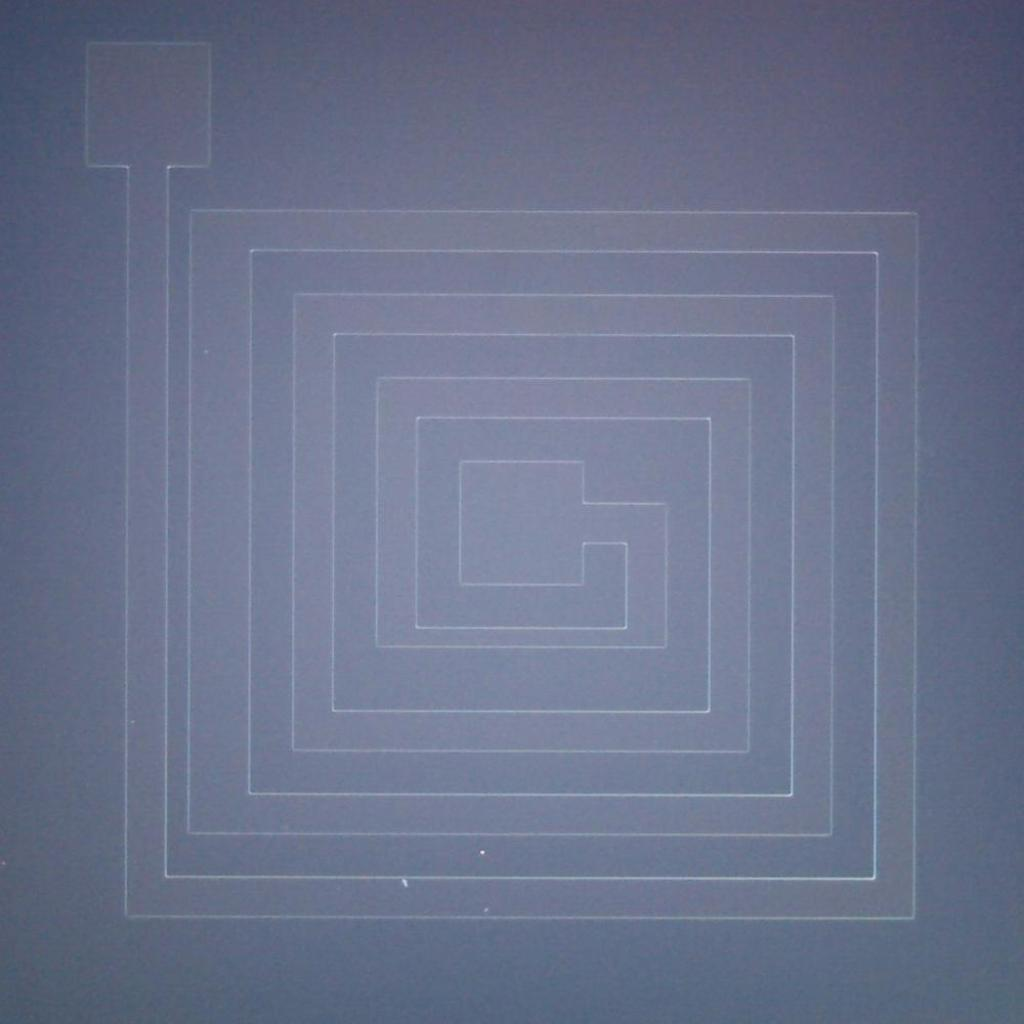dot: (402, 880, 408, 888), (484, 908, 488, 912), (480, 851, 484, 855)
